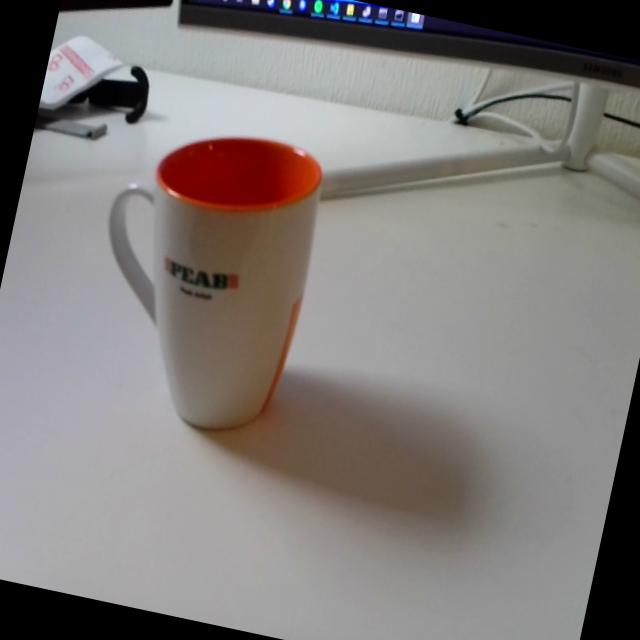White Cup: (65, 100, 341, 458)
